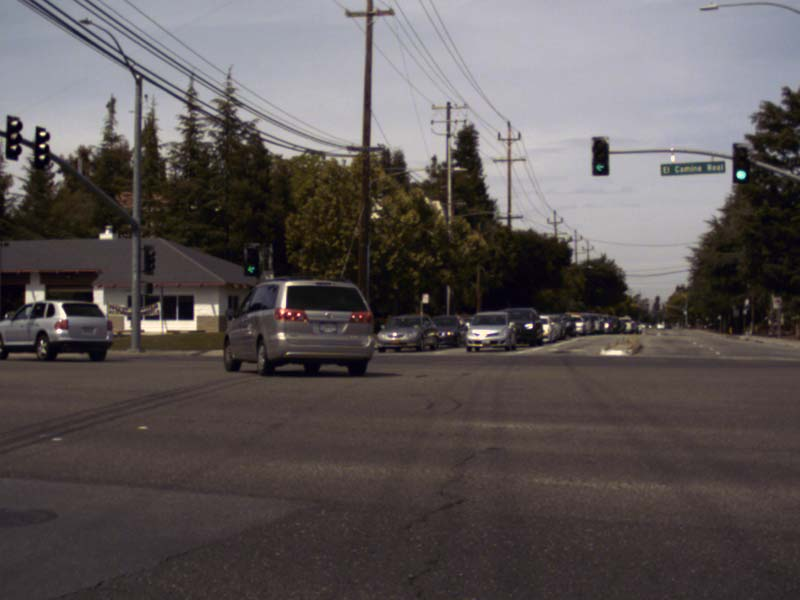Green: (591, 136, 609, 175), (732, 143, 748, 182), (243, 242, 258, 276)
